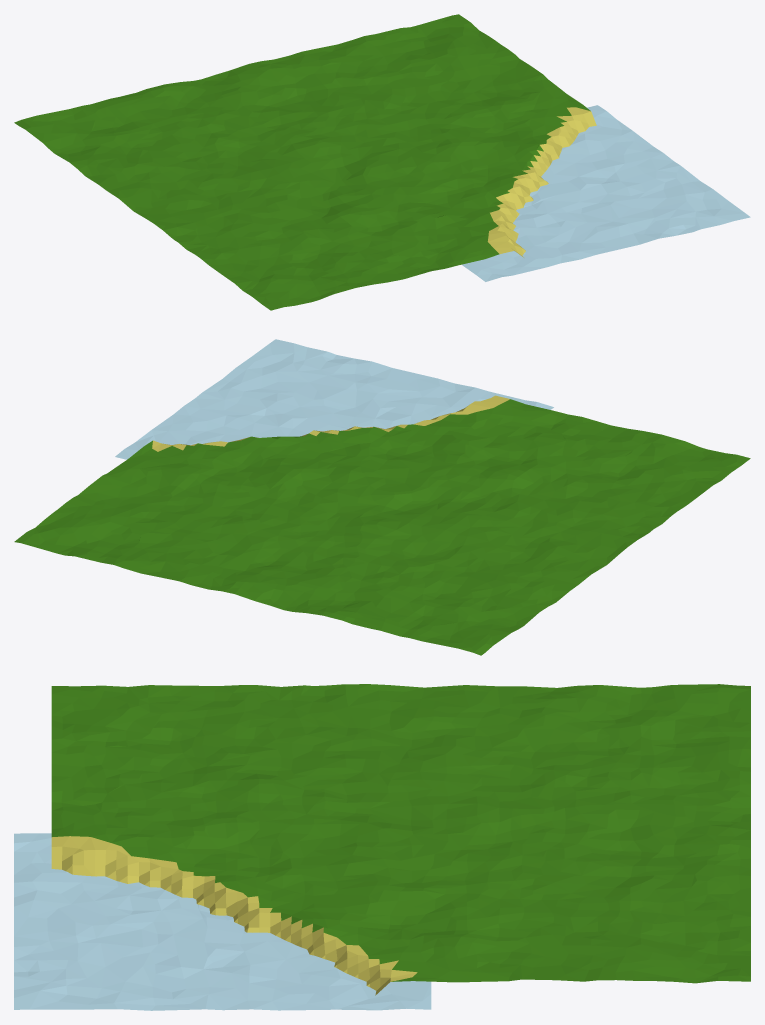
The model's file is forest.fbx.
3 renders of one model, top to bottom at view 1: azimuth 30°, elevation 25°; view 2: azimuth 150°, elevation 25°; view 3: azimuth 270°, elevation 25°, orthographic. The views are drawn at different scales.
Parts seen in each view (by area): view 1: Plane, Plane.001; view 2: Plane, Plane.001; view 3: Plane, Plane.001.
Part boxes in pixels (x1,y1,x2,y2): Plane: [14, 14, 596, 310]; Plane.001: [462, 105, 750, 281]; Plane: [14, 395, 750, 655]; Plane.001: [115, 339, 553, 459]; Plane: [51, 684, 750, 995]; Plane.001: [14, 833, 431, 1010].
Bounding box in the file's own units: 1612 × 66.51 × 1620.
